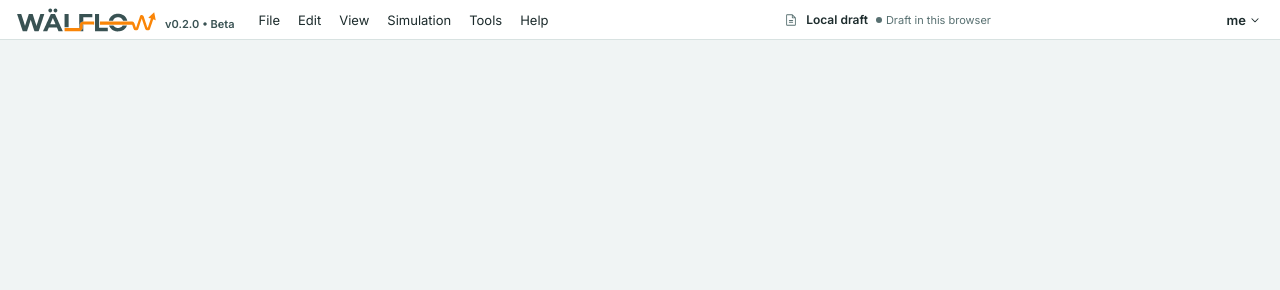
Test case: MenuBar menus › opens File with its items
Click the menu item "File" at [269, 20], box [250,6,288,34]
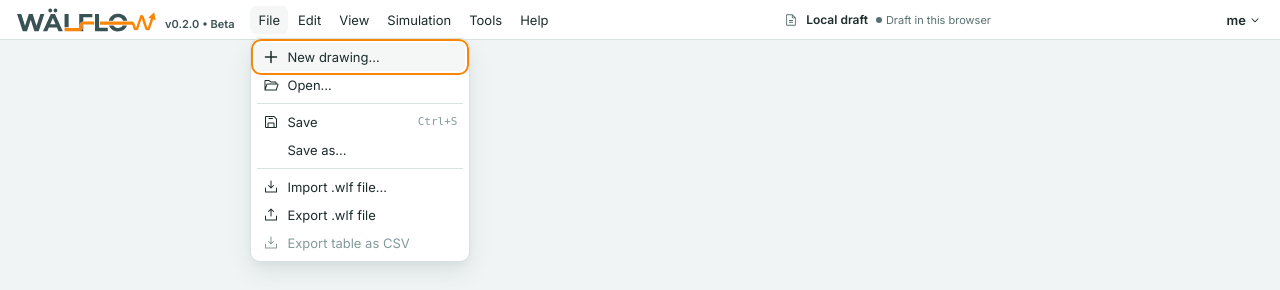
Now the menu "file" is shown, box [250,38,470,262]
Now the menu item "Save Ctrl+S" is shown, box [256,108,466,136]
